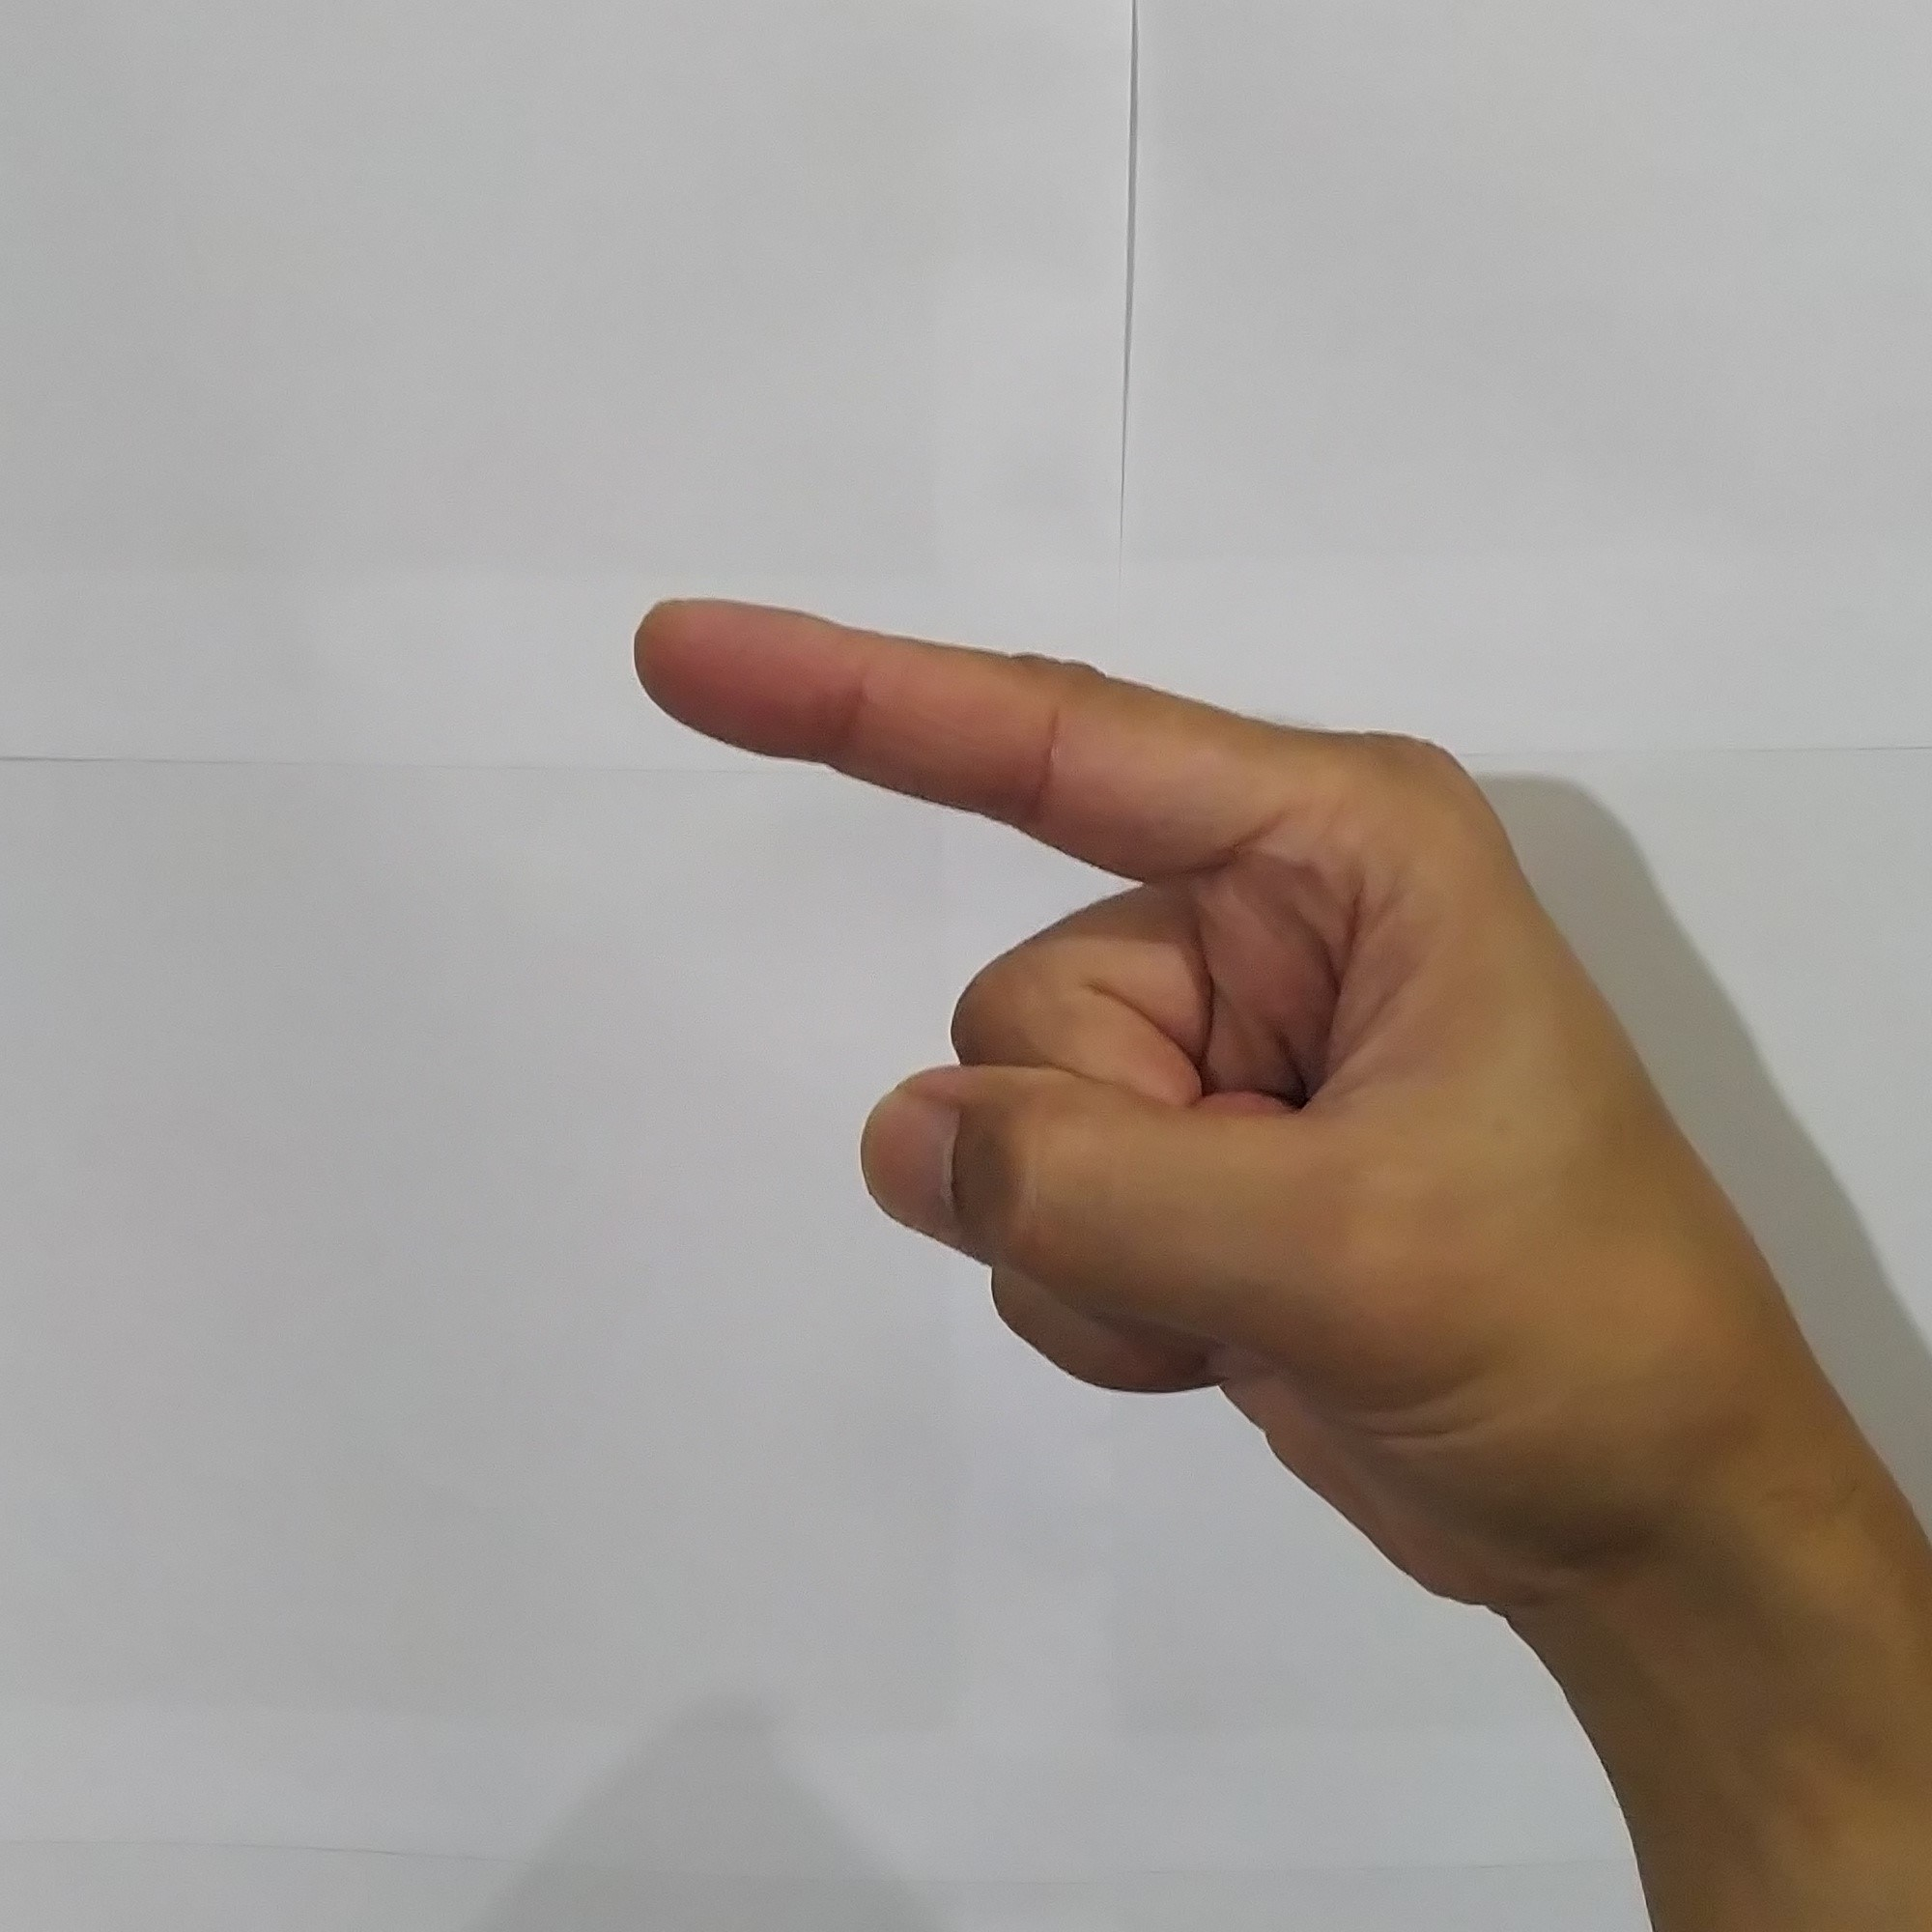Z: (602, 561, 1831, 1606)
